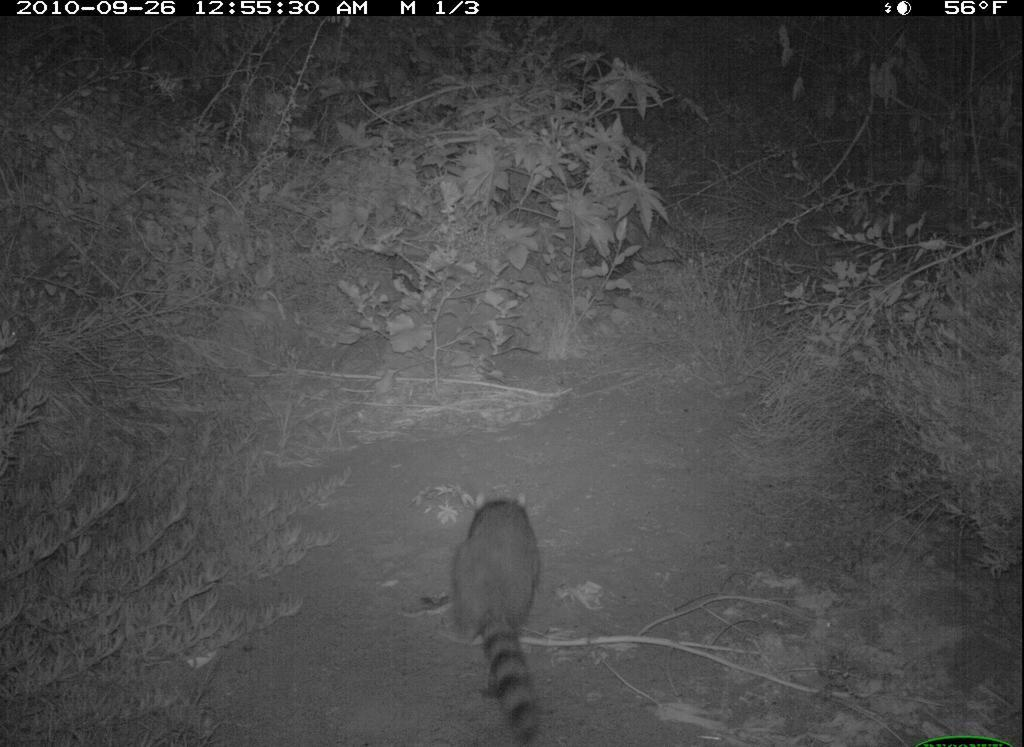raccoon: (442, 489, 568, 747)
